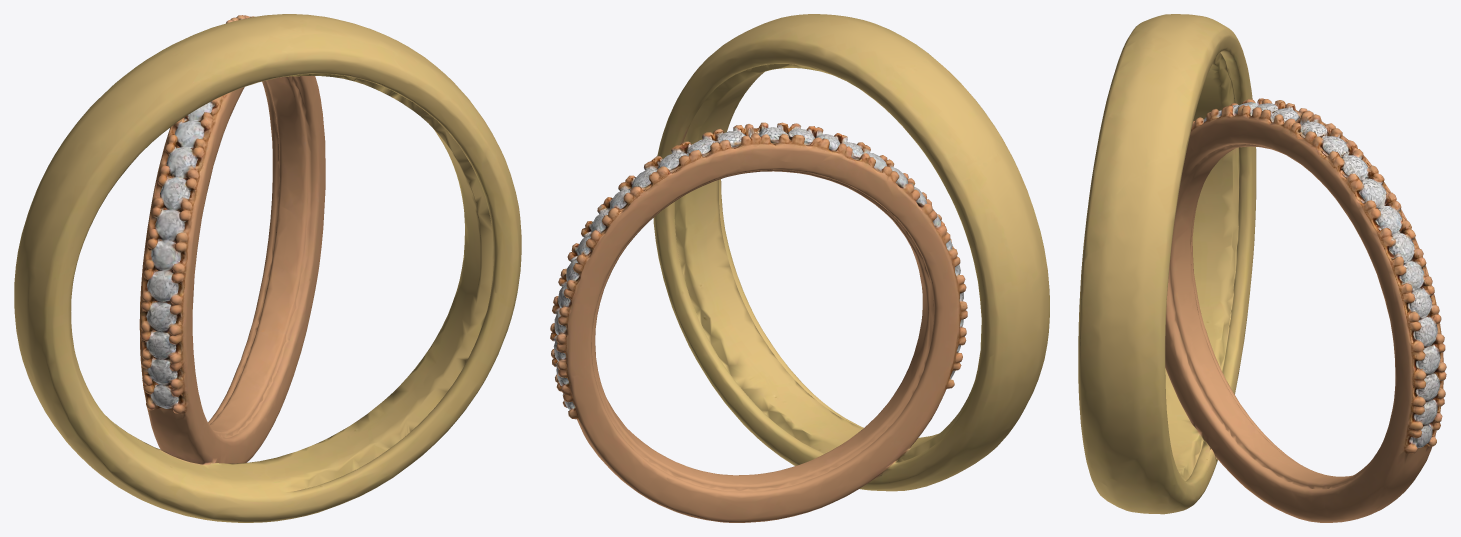
File: rings.glb
3 views of the same model, side by side, from view 1: azimuth 30°, elevation 25°; view 2: azimuth 150°, elevation 25°; view 3: azimuth 270°, elevation 25° (orthographic). The views are drawn at different scales.
Parts seen in each view (by area): view 1: tripo_node_ea5c4223-0fef-4a4e-a668-907866355798; view 2: tripo_node_ea5c4223-0fef-4a4e-a668-907866355798; view 3: tripo_node_ea5c4223-0fef-4a4e-a668-907866355798.
Boxes of the visible parts, x1=… form: tripo_node_ea5c4223-0fef-4a4e-a668-907866355798: x1=14, y1=14, x2=521, y2=522; tripo_node_ea5c4223-0fef-4a4e-a668-907866355798: x1=550, y1=14, x2=1049, y2=522; tripo_node_ea5c4223-0fef-4a4e-a668-907866355798: x1=1078, y1=14, x2=1446, y2=522.
Size of the model in its own units: 0.9596 by 1 by 0.7276.
1 material, 1 textured.
